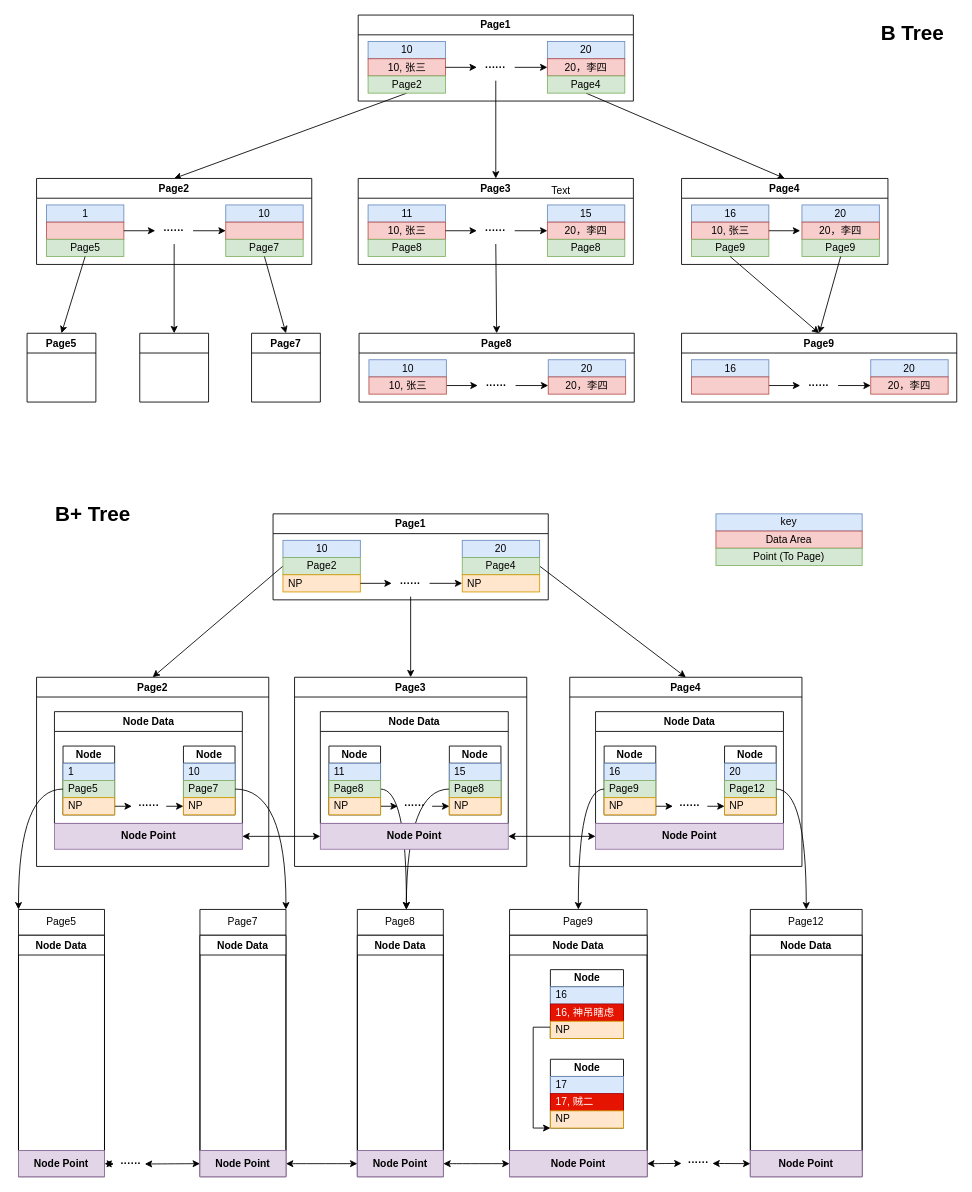
Some shapes in this 972 by 1192 pixel diagram are drawn without their labels. Here are the shapes that lost their labels. From the top down, the centre of each, then its label:
At (85,230): "1, aaa".
At (264,230): "10，ttttt".
At (174,367): "Page6".
At (730,385): "15, 张三".
